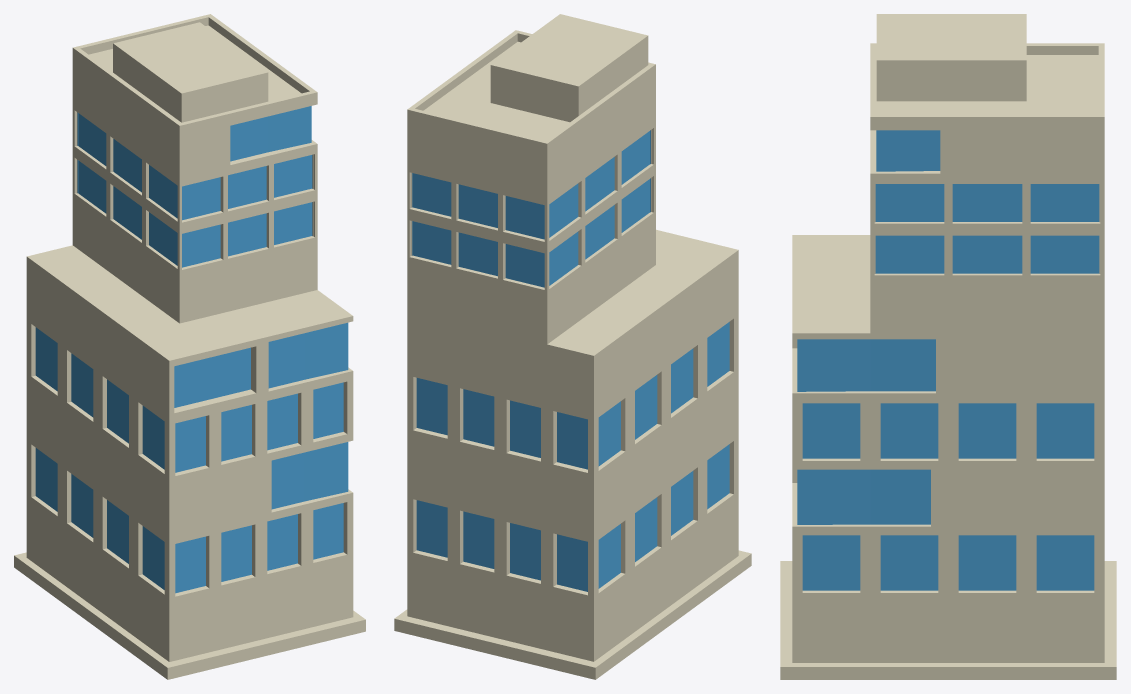
3 renders of one model, left to right at view 1: azimuth 30°, elevation 25°; view 2: azimuth 150°, elevation 25°; view 3: azimuth 270°, elevation 25°, orthographic. The views are drawn at different scales.
Parts seen in each view (by area): view 1: Cube.008; view 2: Cube.008; view 3: Cube.008.
Boxes of the visible parts, box(x1,y1,x2,y2) form: Cube.008: box(14, 14, 365, 679); Cube.008: box(394, 14, 751, 679); Cube.008: box(780, 14, 1116, 679).
Size of the model in its own units: 293 by 763 by 393.
